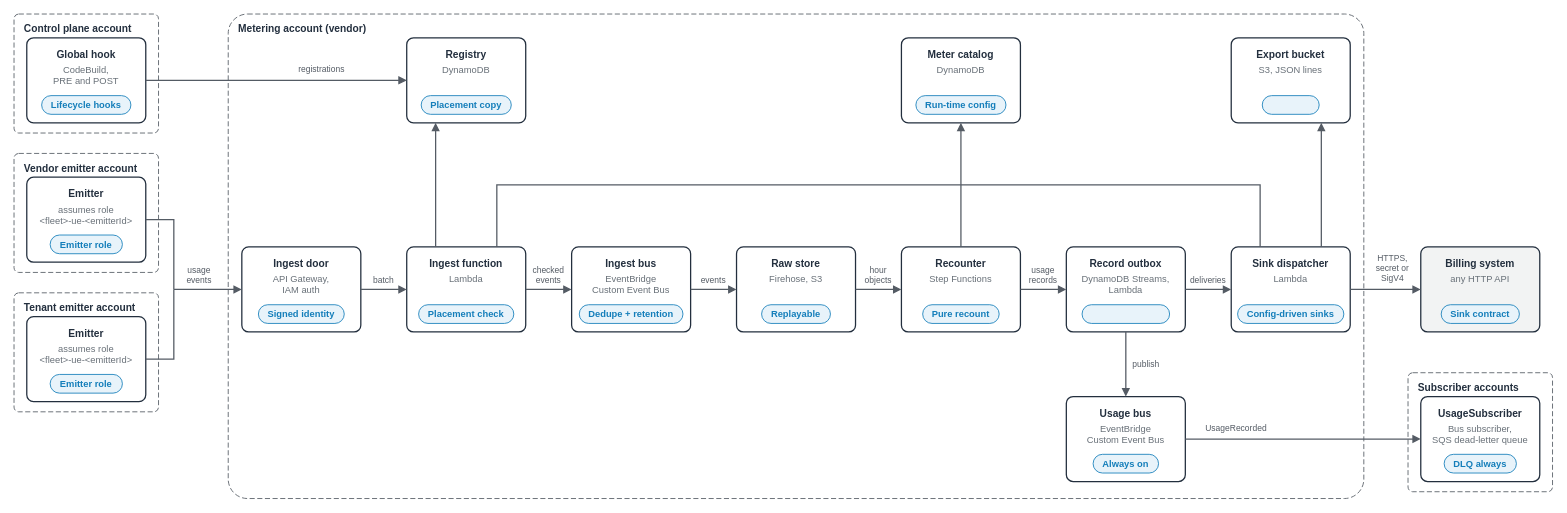
The diagram is 1567 pixels wide and 513 high, and some of its shapes have lost their labels. Here are the shapes that lost their labels. From the top down, the box of each, then its label:
(1261, 95, 1319, 114): File sink
(1081, 304, 1170, 323): Outbox publish
